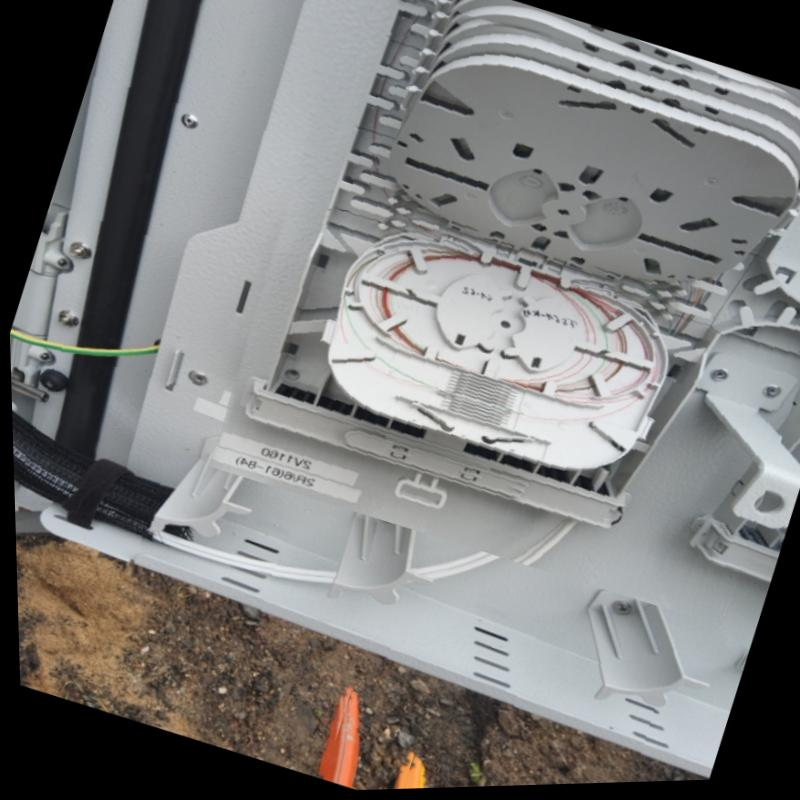NT-Gehause: (8, 0, 800, 784)
Orang-Speednetrohrchen: (319, 696, 354, 789), (398, 760, 418, 791)
Spleiskassetten: (206, 0, 800, 587)
